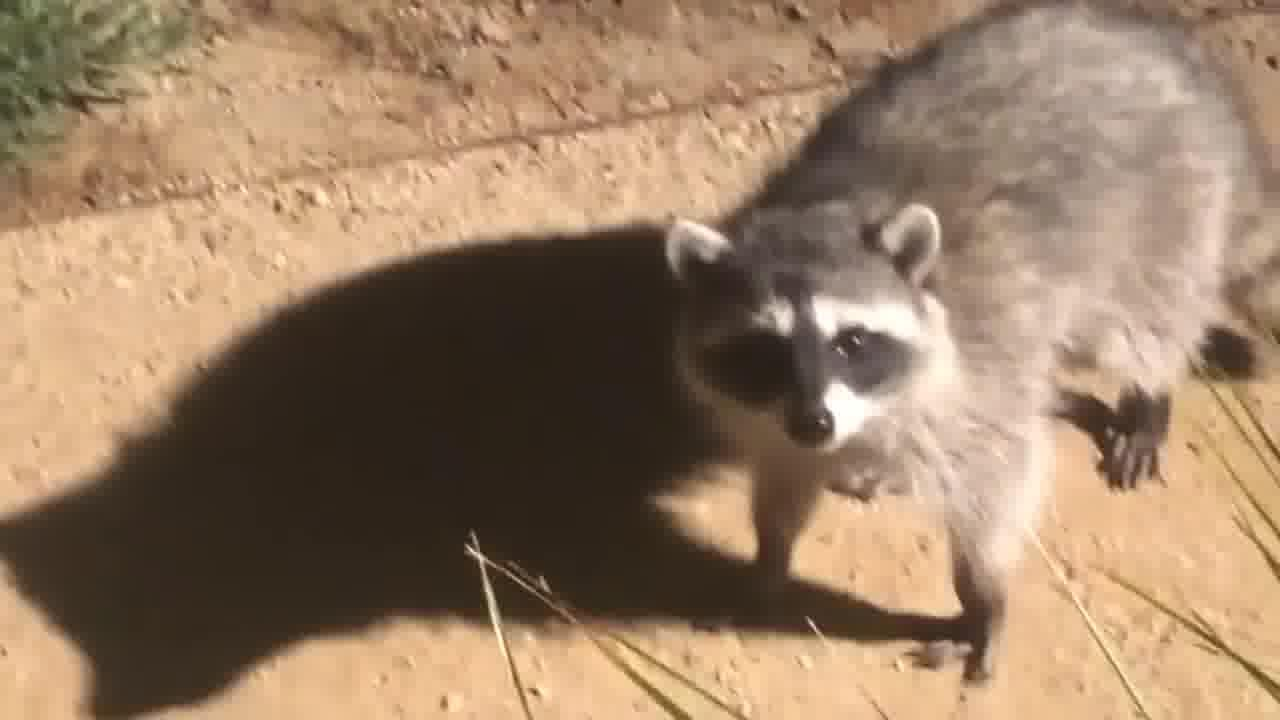raccoon: (662, 0, 1280, 681)
